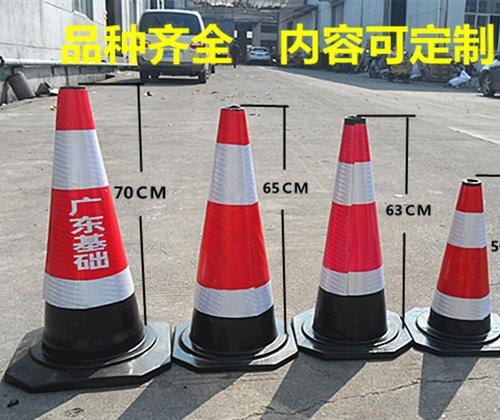cone_barrel: (23, 84, 154, 374), (175, 107, 288, 366), (302, 121, 398, 351), (420, 176, 498, 347)
